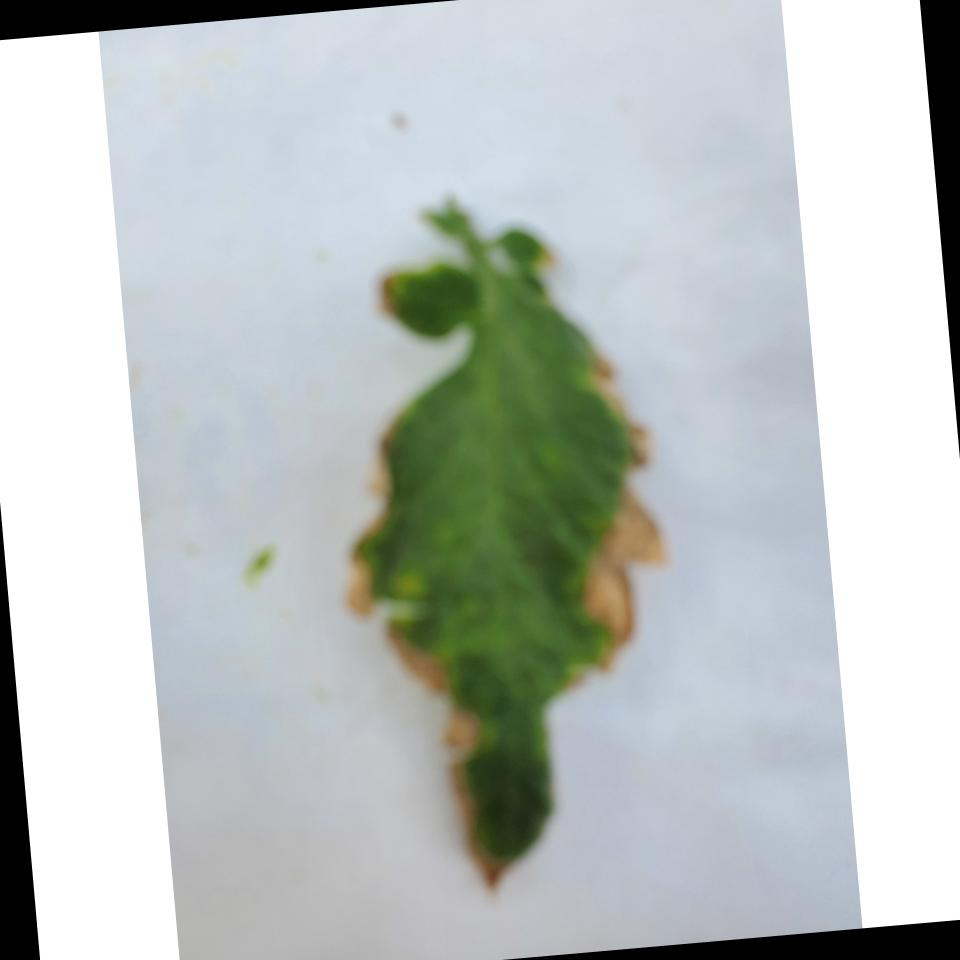tomato_bacterial_blight: (320, 158, 704, 900)
